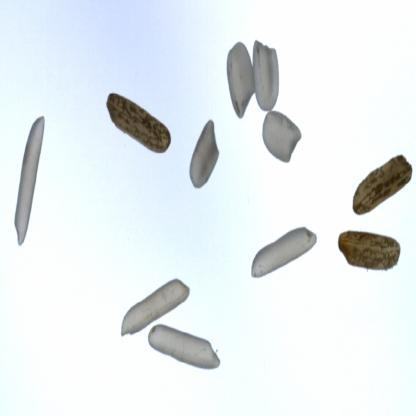Full: (105, 93, 172, 156), (12, 116, 44, 246), (120, 279, 191, 337), (351, 155, 413, 218), (251, 227, 318, 280), (147, 325, 222, 372), (337, 231, 402, 273), (188, 120, 221, 191), (262, 110, 304, 165), (226, 43, 255, 119), (253, 38, 281, 112)
